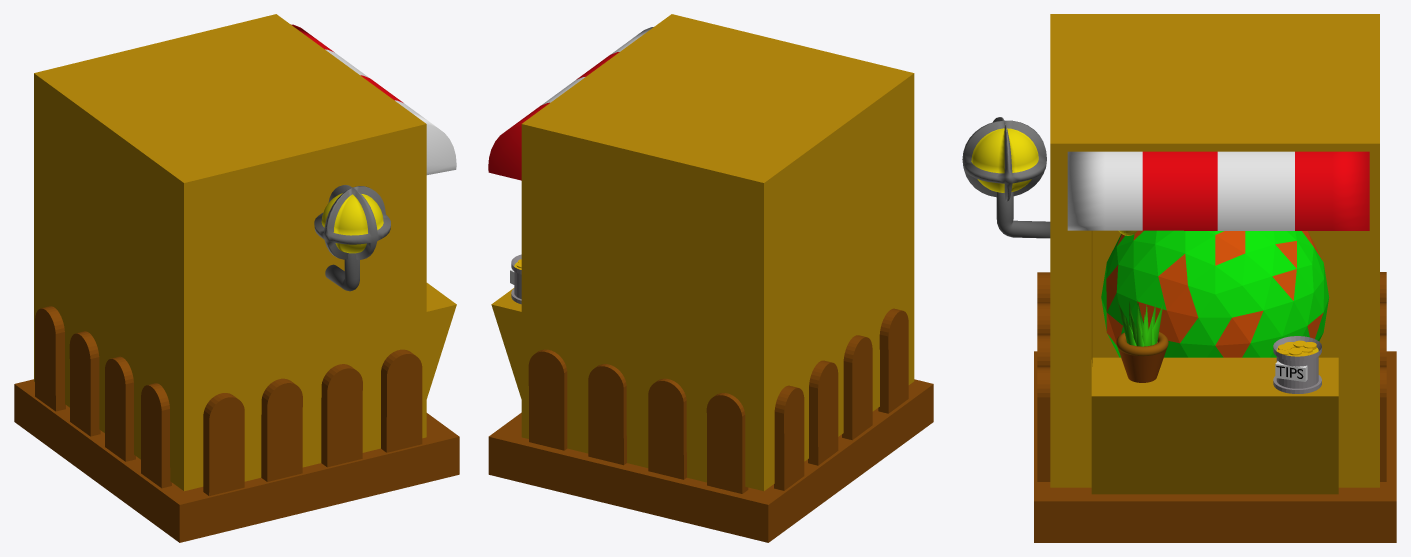
The model's file is stomp_shoptwo.glb.
3 renders of one model, left to right at view 1: azimuth 30°, elevation 25°; view 2: azimuth 150°, elevation 25°; view 3: azimuth 270°, elevation 25°, orthographic. The views are drawn at different scales.
Visible parts, largest first — view 1: Cylinder.004; view 2: Cylinder.004; view 3: Cylinder.004, Icosphere.
Part boxes in pixels (left/top/right/bottom): Cylinder.004: left=14, top=14, right=459, bottom=542; Cylinder.004: left=488, top=14, right=933, bottom=542; Cylinder.004: left=962, top=14, right=1396, bottom=542; Icosphere: left=1101, top=230, right=1329, bottom=357.
Bounding box in the file's own units: 2.33 × 2.58 × 2.63.
